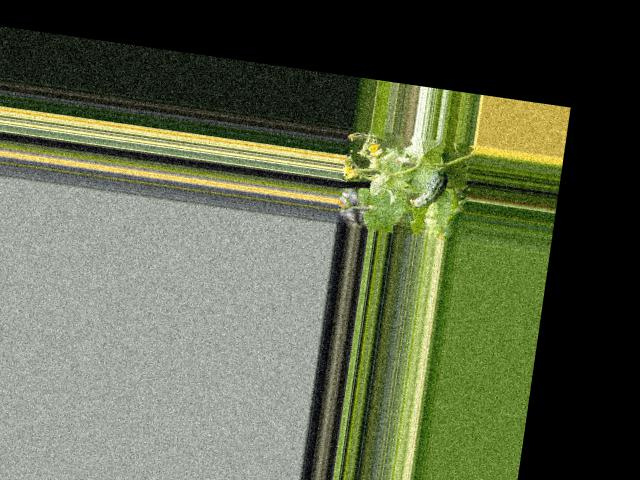cucumber: (408, 165, 448, 211)
